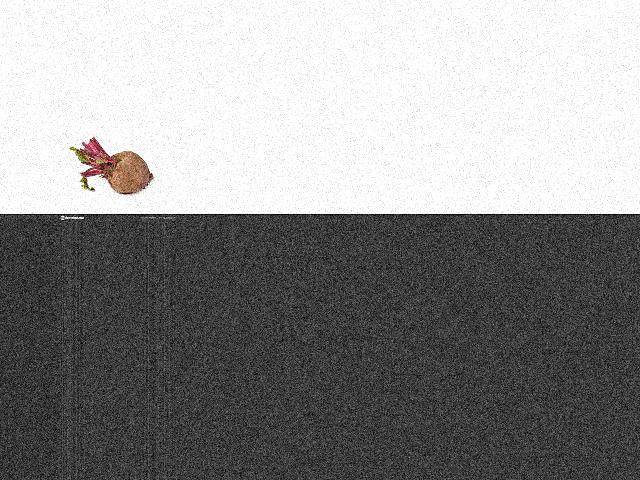beet: (70, 137, 153, 194)
